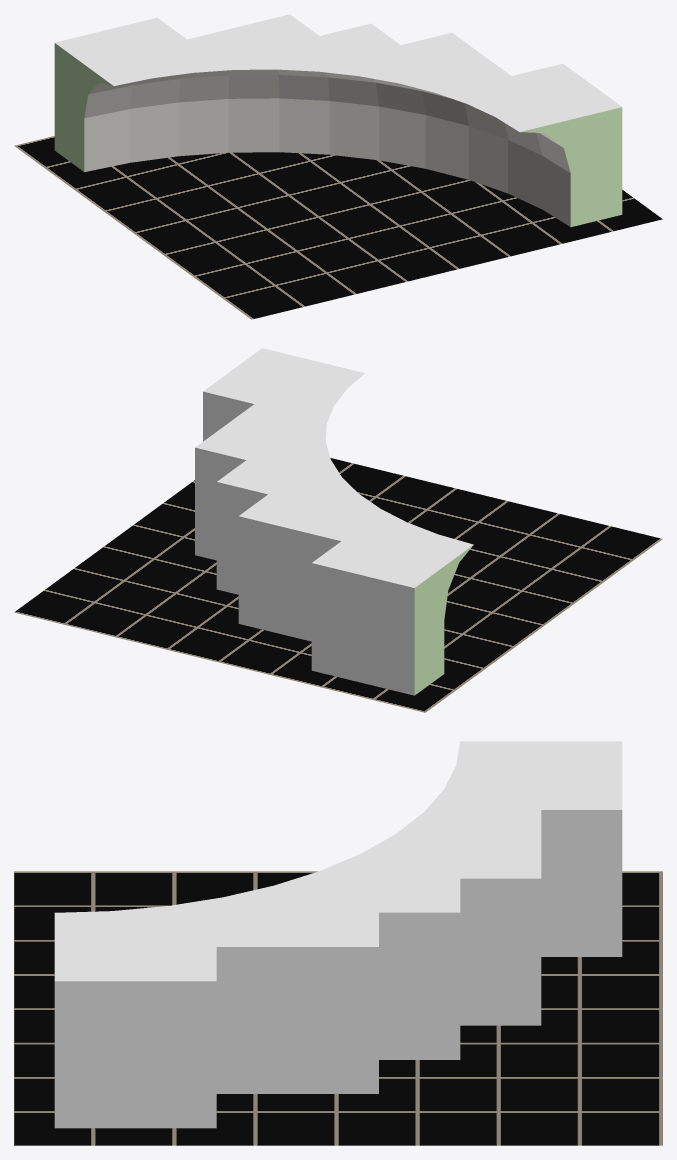
Rendered from Wall_Curve_Inner_7x7_Top.glb.
3 renders of one model, top to bottom at view 1: azimuth 30°, elevation 25°; view 2: azimuth 150°, elevation 25°; view 3: azimuth 270°, elevation 25°, orthographic. The views are drawn at different scales.
Visible parts, largest first — view 1: Wall_Curve_Inner_7x7_Top, Floor; view 2: Wall_Curve_Inner_7x7_Top, Floor; view 3: Wall_Curve_Inner_7x7_Top, Floor.
Boxes of the visible parts, left/top/right/bottom form: Wall_Curve_Inner_7x7_Top: left=54, top=14, right=622, bottom=226; Floor: left=14, top=136, right=662, bottom=319; Wall_Curve_Inner_7x7_Top: left=195, top=348, right=473, bottom=695; Floor: left=14, top=458, right=662, bottom=712; Wall_Curve_Inner_7x7_Top: left=54, top=741, right=622, bottom=1128; Floor: left=14, top=871, right=662, bottom=1145.
Bounding box in the file's own units: 800 × 200 × 800.
5 materials, 1 textured.
